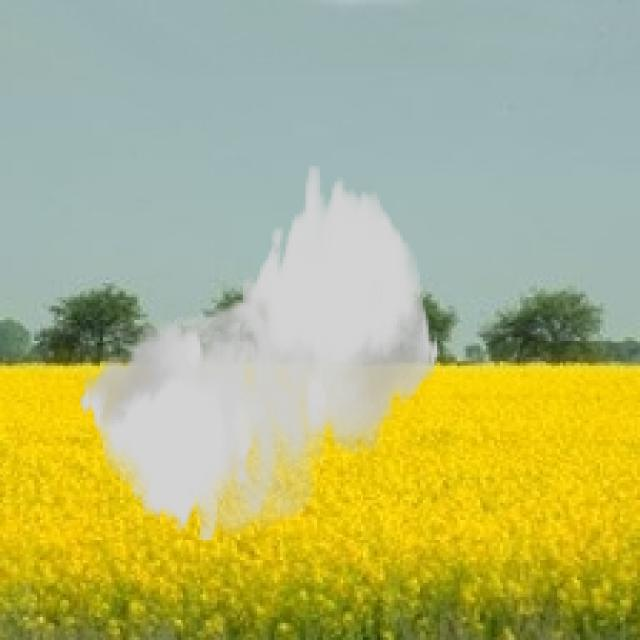smoke: (77, 166, 440, 543)
